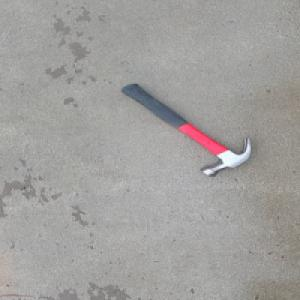Hammer: (118, 82, 254, 177)
